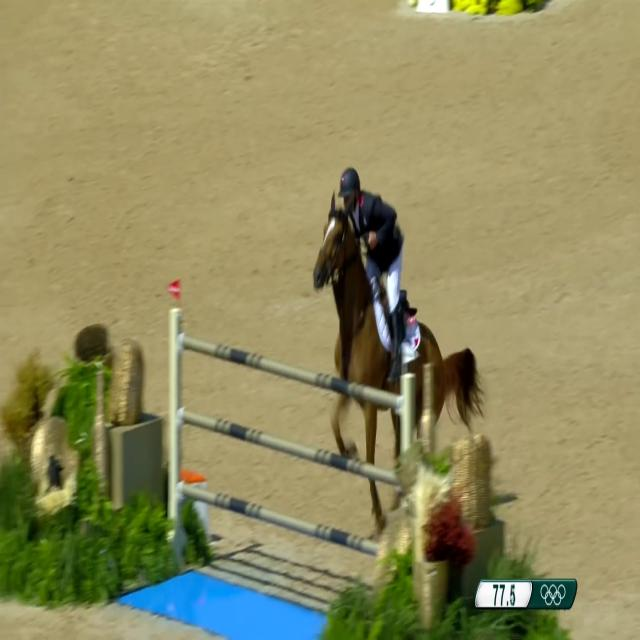Horse Rider: (326, 127, 419, 341)
Horse Running: (297, 168, 497, 510)
